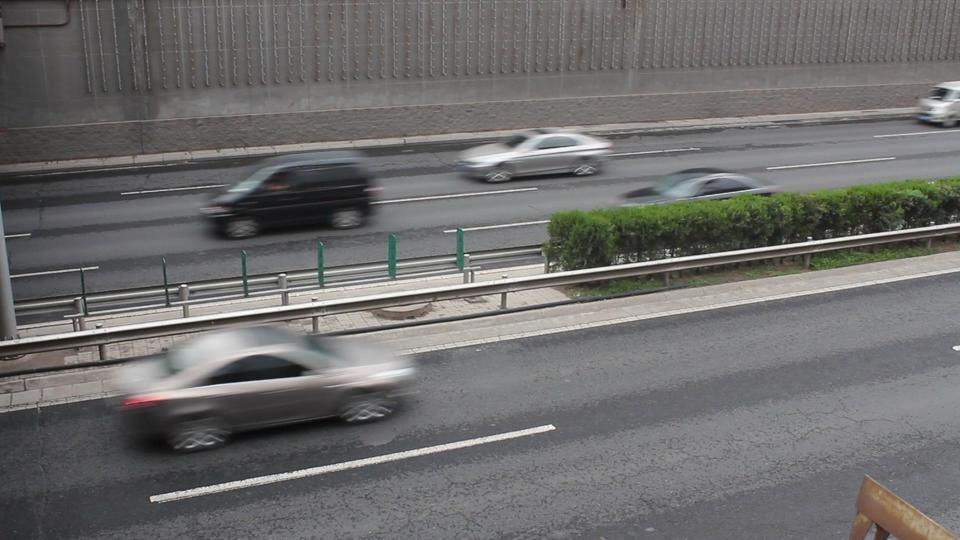car: (107, 327, 421, 454), (199, 150, 385, 240), (454, 129, 615, 183), (616, 169, 763, 203), (915, 81, 960, 128)
